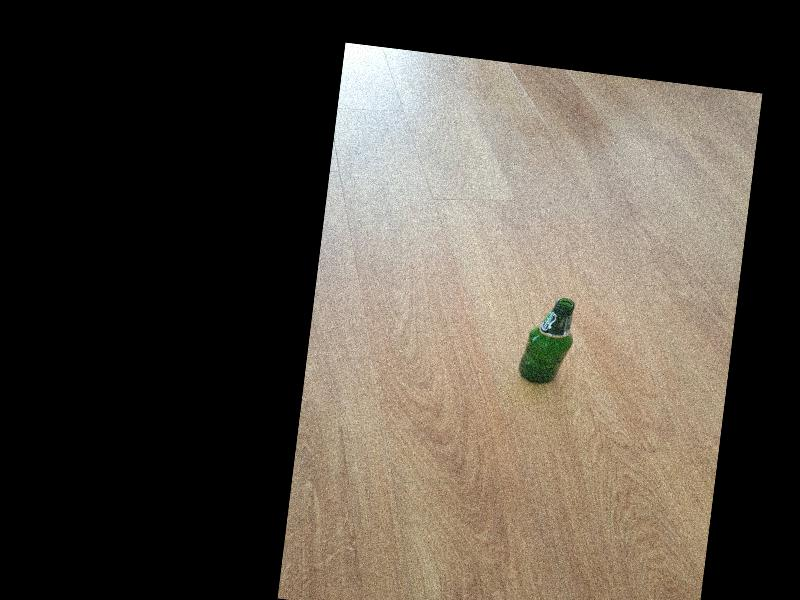Beer: (516, 292, 578, 387)
